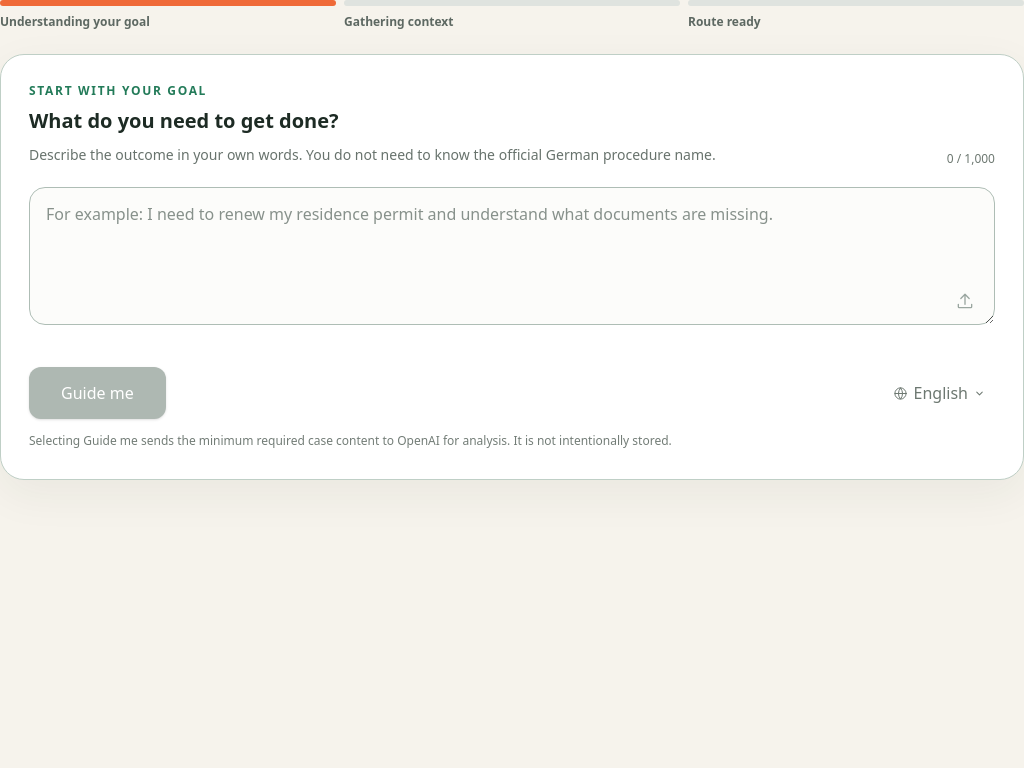
Test: CaseWorkspace › shows only two answer options plus a typed-answer field
Type "Renew a fictional residence permit and prepare the missing documents." into the text box named "What do you need to get done?" at (512, 256), box [29, 187, 995, 325]
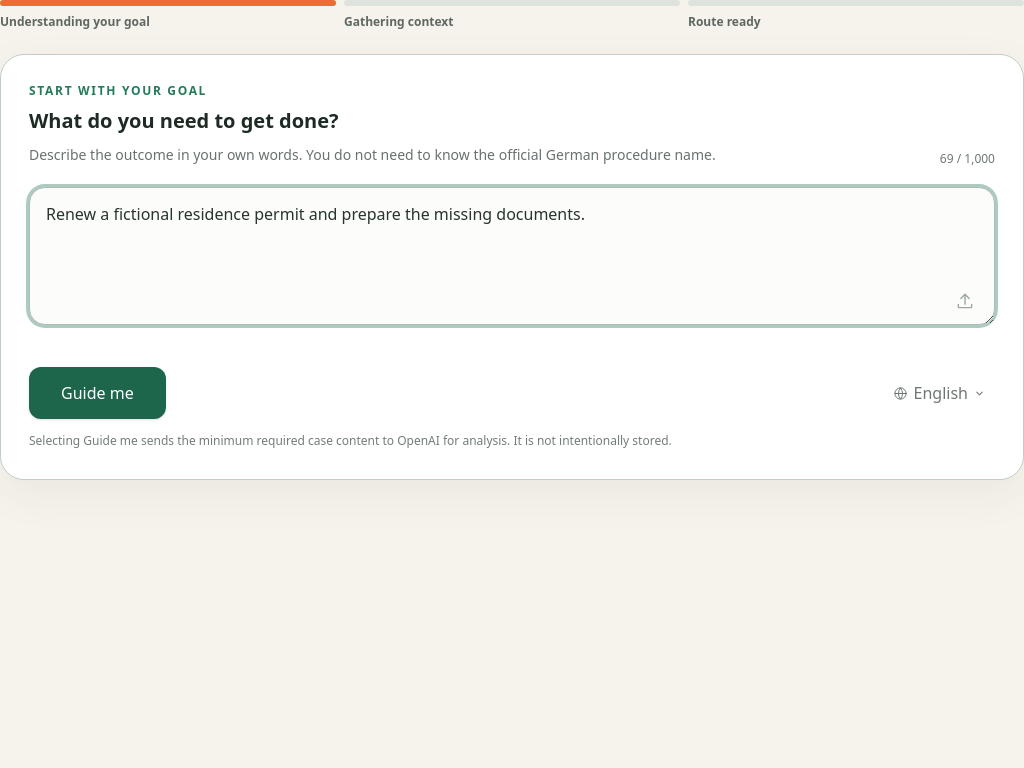
Click the button "Guide me" at (97, 393), box [29, 367, 166, 419]
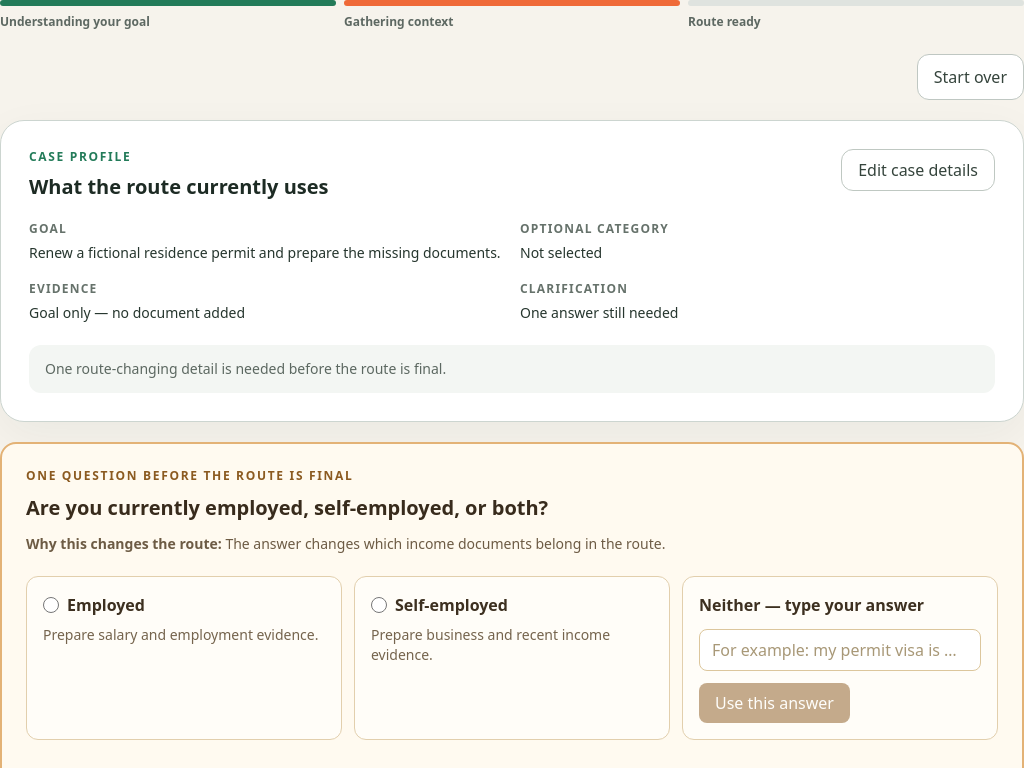
Now the number of radio buttons labelled "Employed Prepare salary and employment evidence." is 2, box [43, 597, 59, 613]; [371, 597, 387, 613]
Now the field labelled "Neither — type your answer" is shown, box [699, 629, 981, 671]
